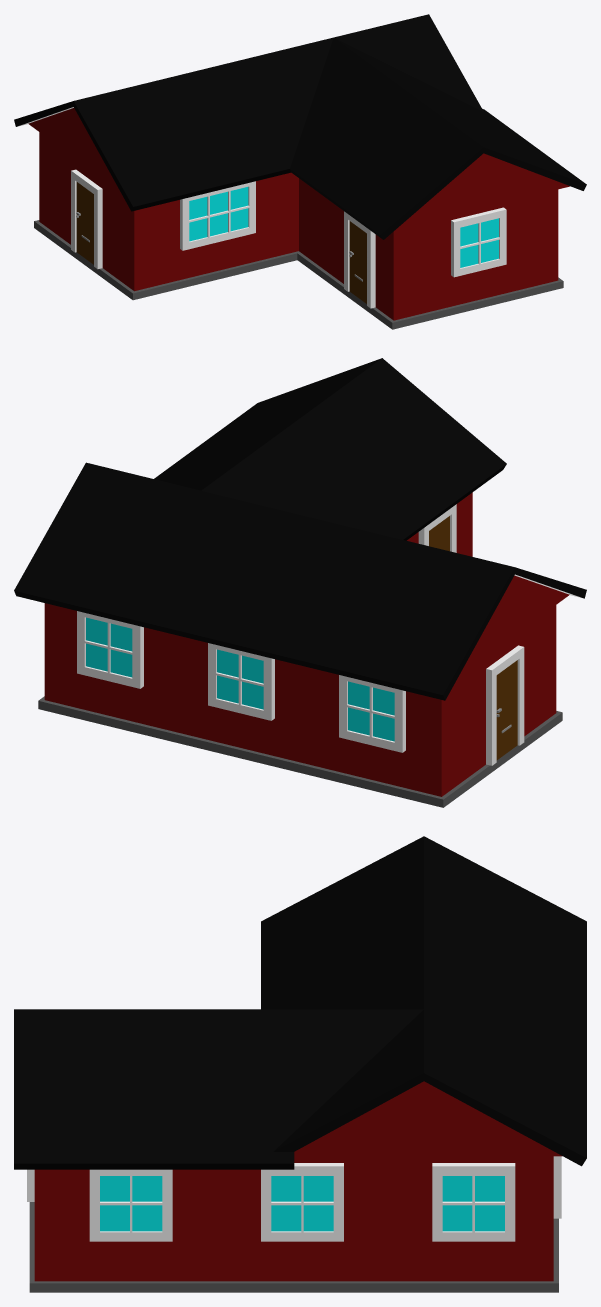
Rendered from house_003_connected.fbx.
3 views of the same model, one above another, from view 1: azimuth 30°, elevation 25°; view 2: azimuth 150°, elevation 25°; view 3: azimuth 270°, elevation 25° (orthographic). The views are drawn at different scales.
Visible parts, largest first — view 1: Cube.022; view 2: Cube.022; view 3: Cube.022.
Part boxes in pixels (x1,y1,x2,y2): Cube.022: (14, 14, 586, 329); Cube.022: (14, 358, 586, 807); Cube.022: (14, 836, 586, 1292).
Size of the model in its own units: 1104 by 481 by 1104.
